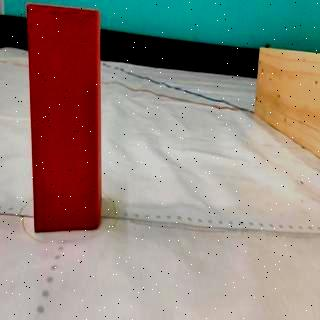redbox: (26, 3, 100, 235)
